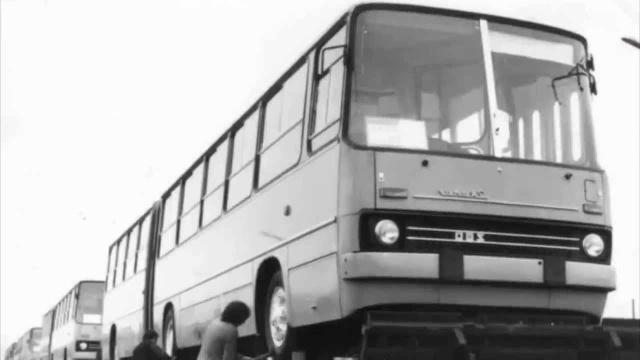bus: (101, 2, 620, 360), (38, 274, 102, 360)
